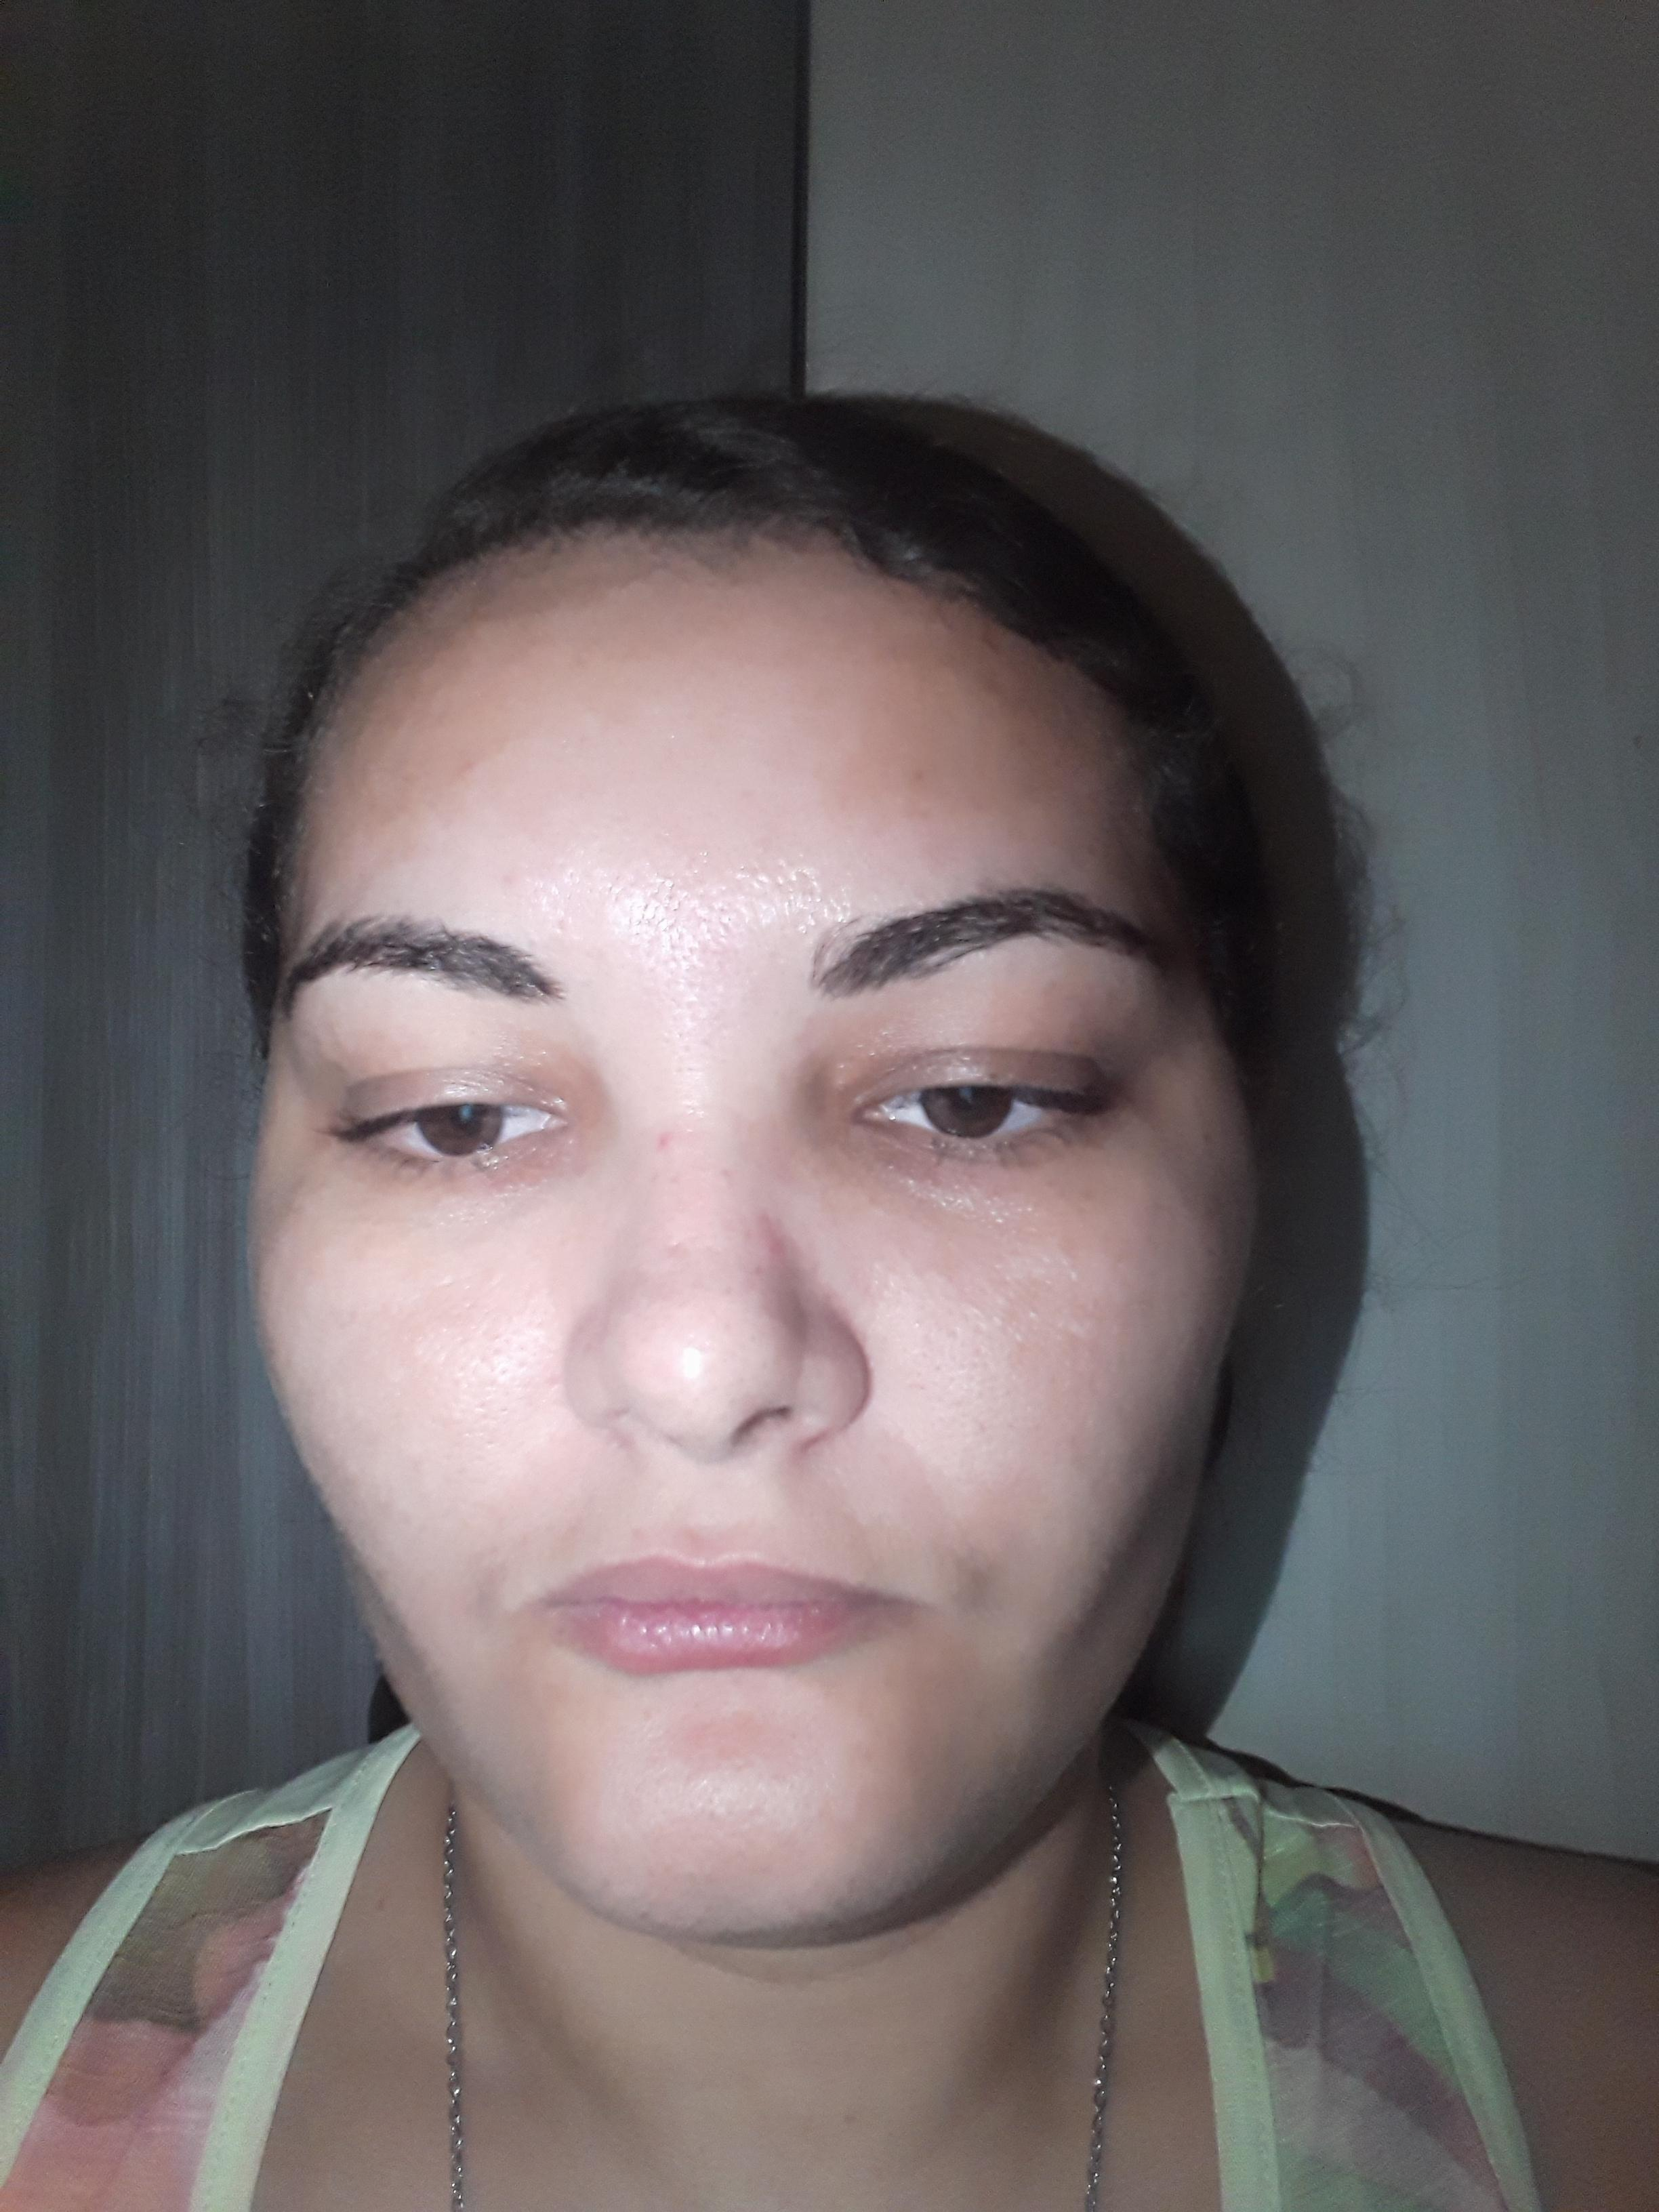Acne: (749, 1205, 795, 1270), (641, 1116, 681, 1162), (457, 747, 491, 789), (901, 759, 931, 796), (495, 728, 523, 759)
Englarged-Pores: (896, 1282, 1040, 1451), (610, 869, 774, 972), (439, 1299, 542, 1411), (660, 963, 711, 1061)
